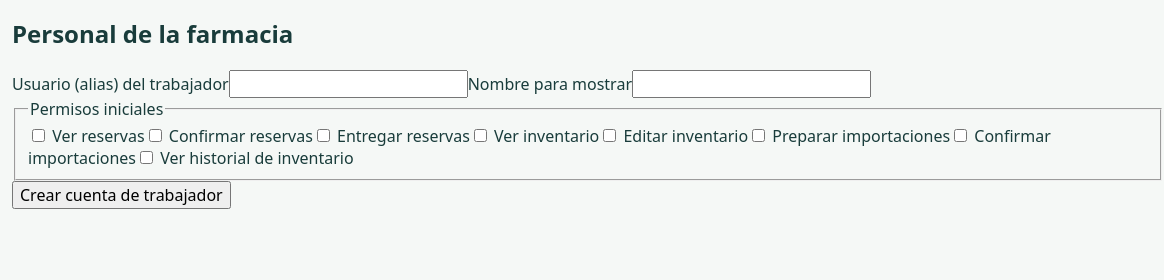
Test: F01.1 US1: pantalla «Personal de la farmacia» › muestra un mensaje claro ante alias no disponible y no revela la clave anterior
The image size is (1164, 280).
Expected: the heading "Personal de la farmacia" is shown, x1=12 y1=17 x2=293 y2=50
Type "alfa.caja1" into the field labelled "Usuario (alias) del trabajador" at x=348, y=84, box x1=229 y1=70 x2=468 y2=98
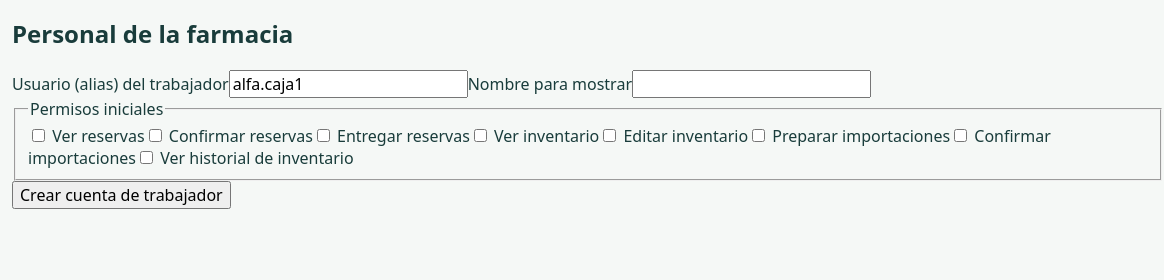
Type "Caja" into the field labelled "Nombre para mostrar" at x=752, y=84, box x1=632 y1=70 x2=871 y2=98
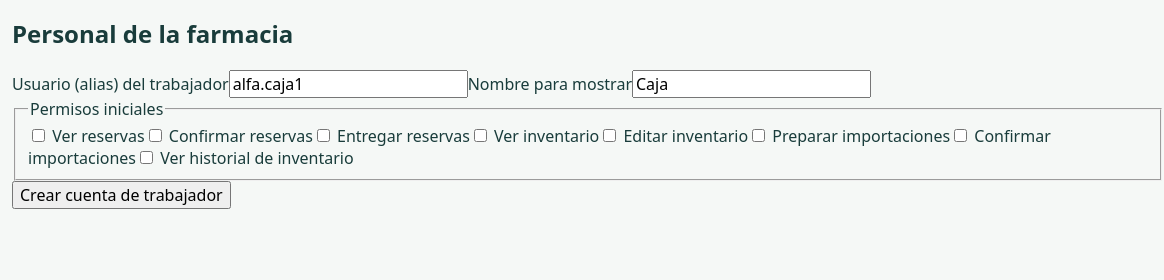
Submit the text "Crear cuenta de trabajador", box x1=12 y1=70 x2=1163 y2=209
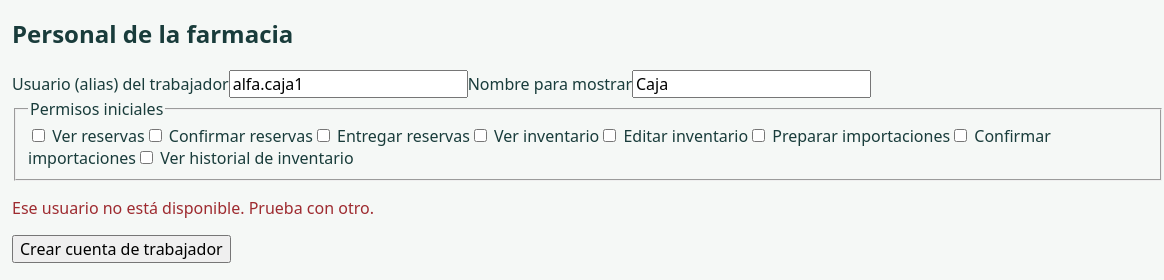
Expected: the message shows "no está disponible", x1=12 y1=197 x2=374 y2=219
